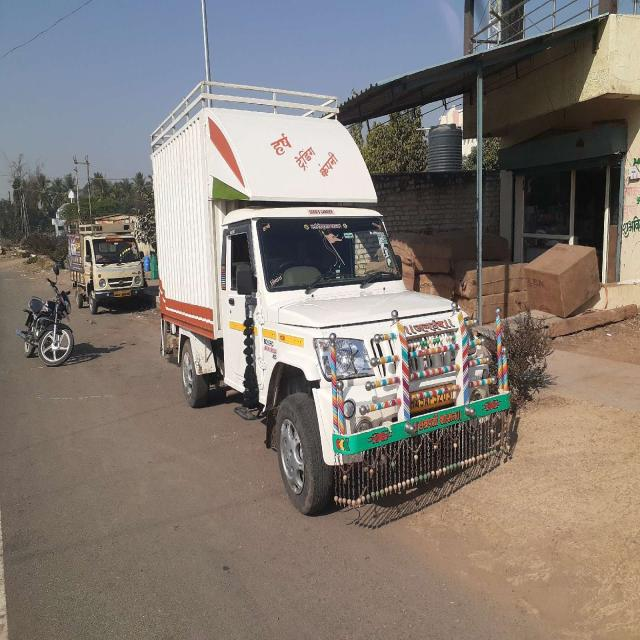light_vehicle: (152, 117, 513, 455)
